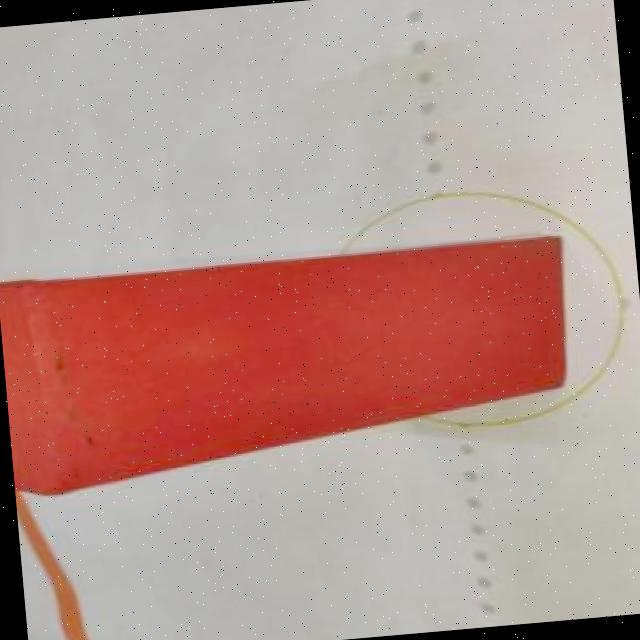redbox: (0, 229, 578, 500)
